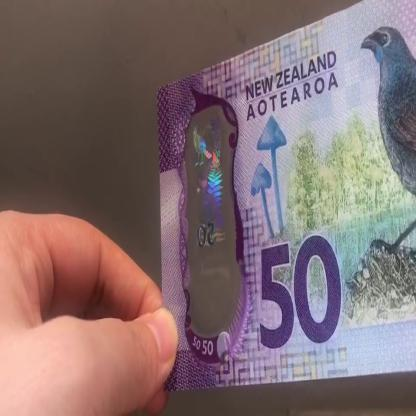50B: (189, 114, 233, 310)
